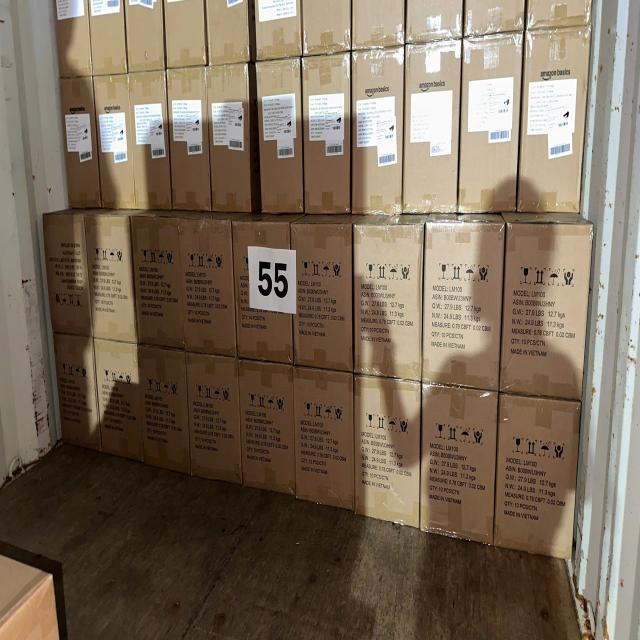Carton: (506, 216, 592, 399), (420, 216, 502, 389), (521, 28, 591, 223), (500, 395, 581, 558), (422, 384, 499, 542), (352, 222, 424, 379), (462, 38, 522, 222), (352, 373, 421, 527), (288, 220, 354, 370), (405, 45, 461, 217), (290, 369, 356, 511), (233, 220, 297, 362), (352, 52, 403, 219), (177, 218, 238, 356), (238, 362, 298, 496), (128, 215, 186, 351), (302, 58, 349, 216), (258, 62, 306, 214), (187, 356, 243, 485), (137, 344, 191, 477), (84, 213, 137, 344), (208, 68, 252, 215), (96, 340, 147, 464), (44, 212, 93, 338), (170, 70, 212, 214), (54, 332, 102, 453), (132, 74, 170, 212), (61, 79, 99, 212), (93, 76, 130, 211), (205, 0, 250, 65), (255, 0, 302, 60), (166, 0, 207, 68), (56, 0, 92, 77), (91, 0, 128, 74), (126, 0, 164, 72), (300, 0, 350, 54), (351, 0, 406, 48), (407, 0, 465, 42), (466, 0, 527, 36), (527, 1, 593, 30)
